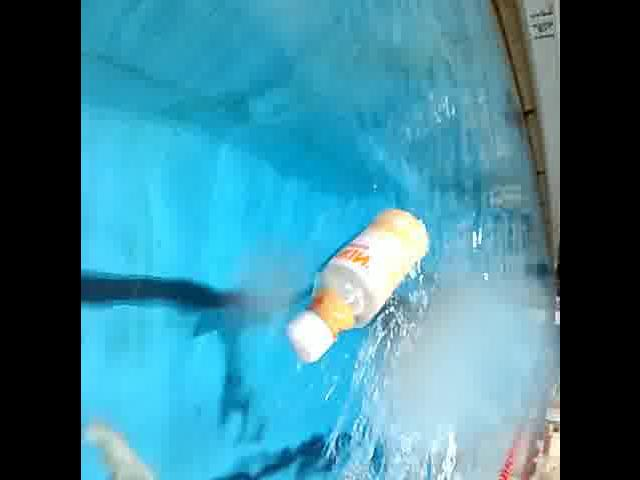Bottle: (277, 199, 434, 396)
